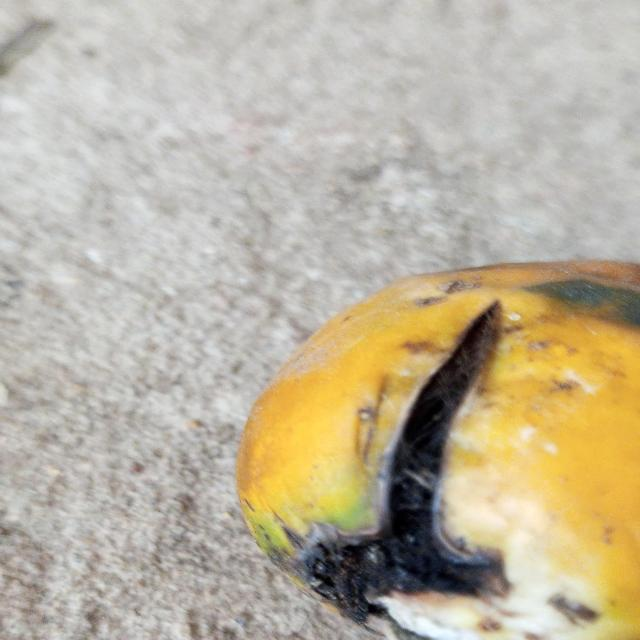damaged: (236, 260, 640, 640)
